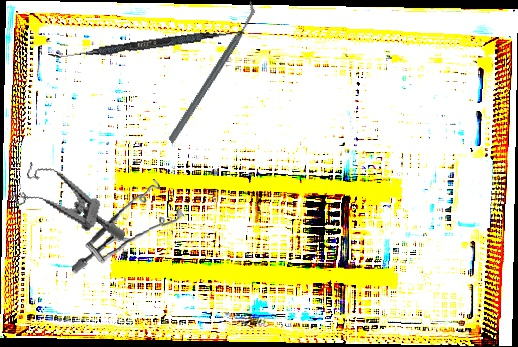Chopper: (130, 0, 293, 145)
Spatula Surgical: (48, 23, 245, 66)
Speculum: (66, 177, 188, 274), (6, 159, 137, 241)
